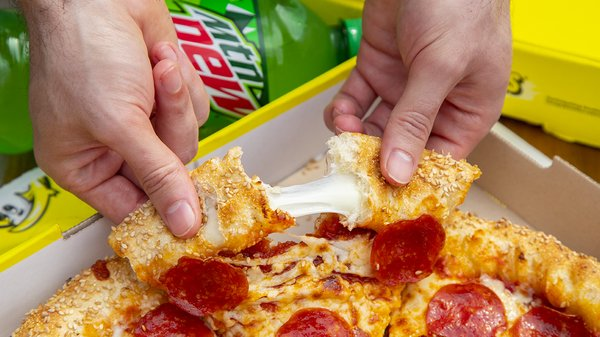pizza: (39, 2, 514, 185), (0, 2, 213, 239), (324, 2, 514, 184)
